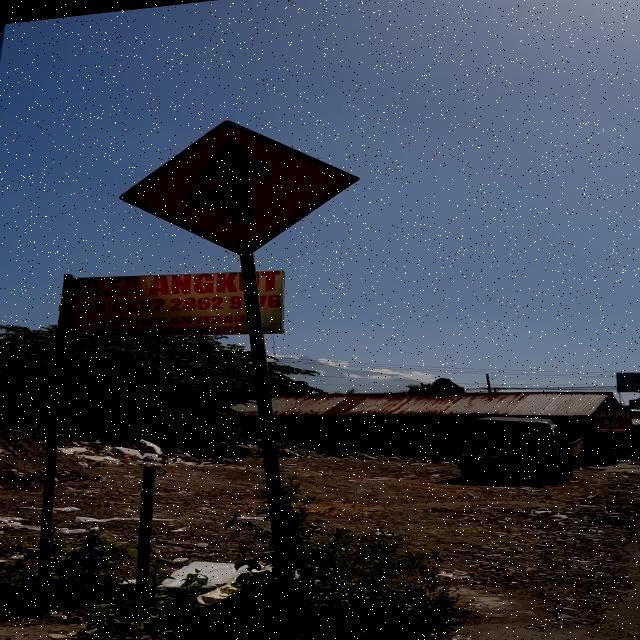Persimpangan 3 Prioritas Kiri: (118, 120, 360, 256)
